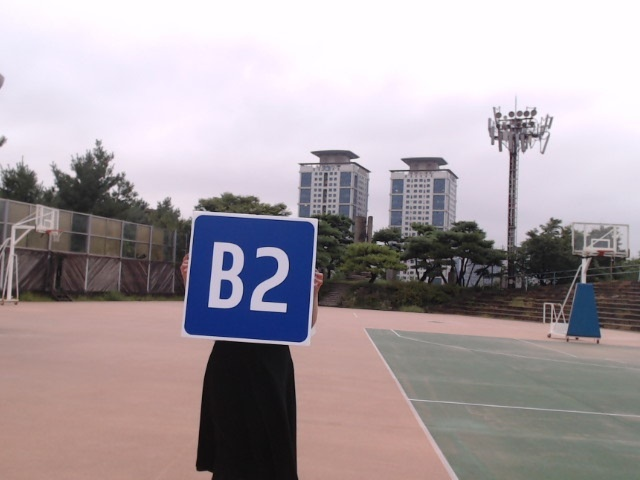delivery_b2: (182, 212, 316, 345)
